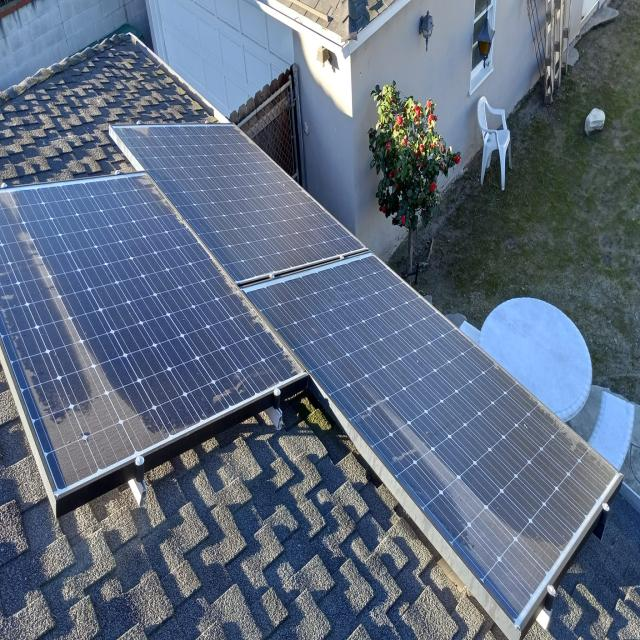dust-solar-panel: (0, 123, 622, 631)
